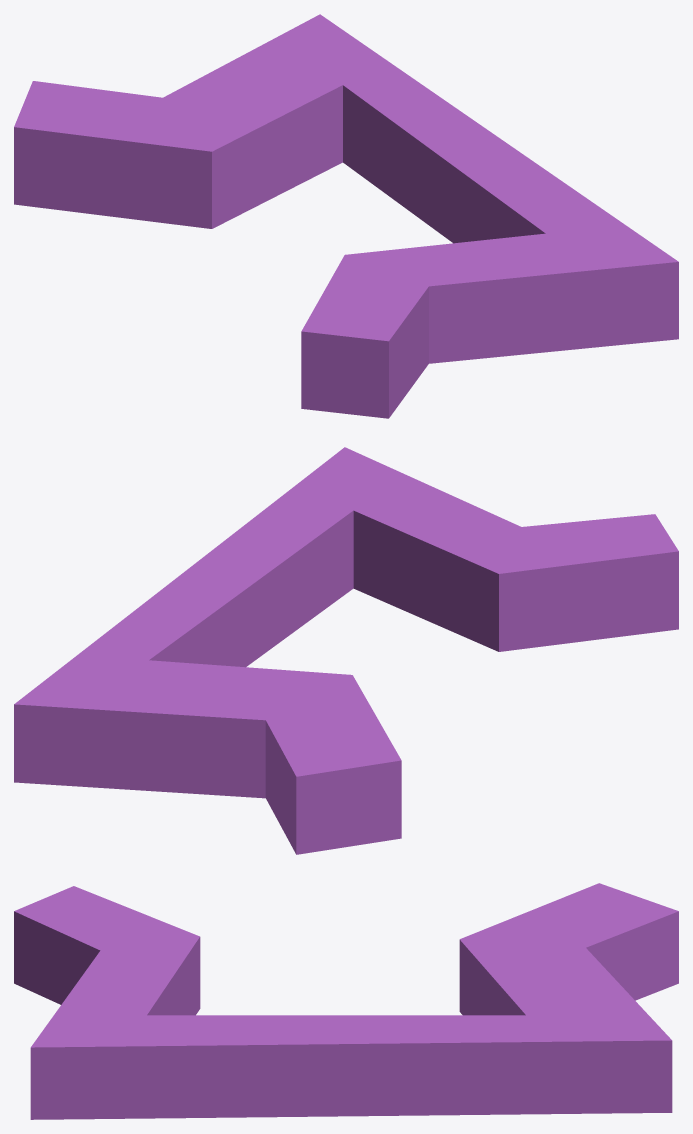
Rendered from Perthro.fbx.
3 views of the same model, one above another, from view 1: azimuth 30°, elevation 25°; view 2: azimuth 150°, elevation 25°; view 3: azimuth 270°, elevation 25° (orthographic). The views are drawn at different scales.
Parts seen in each view (by area): view 1: Perthro; view 2: Perthro; view 3: Perthro.
Part boxes in pixels (box(x1,y1,x2,y2)): Perthro: box(14, 14, 678, 418); Perthro: box(14, 447, 678, 854); Perthro: box(14, 883, 678, 1119).
Bounding box in the file's own units: 0.4859 × 0.0997 × 0.8306.
